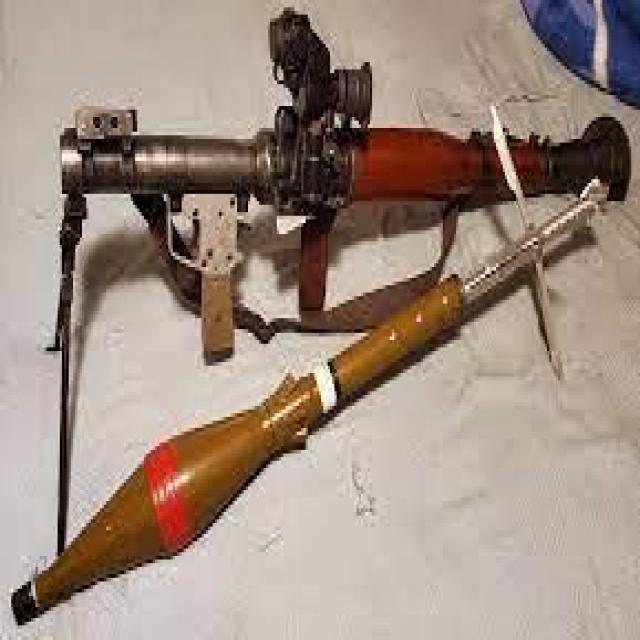Gun: (56, 23, 640, 385)
